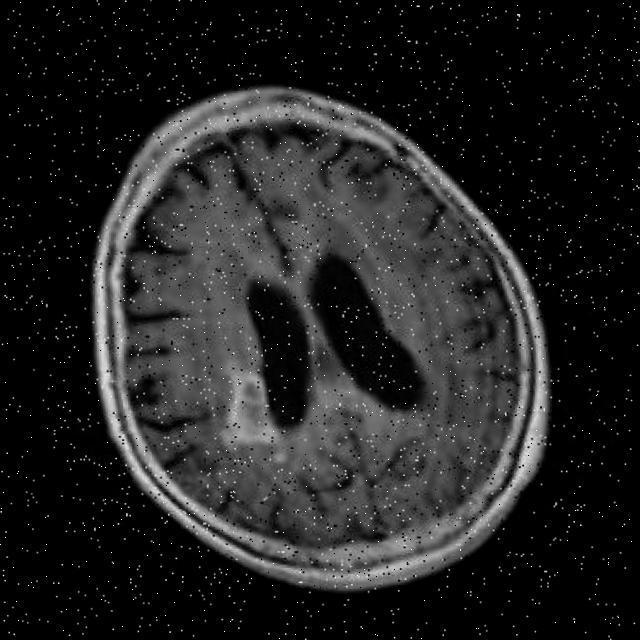EMCI: (187, 351, 303, 475)
